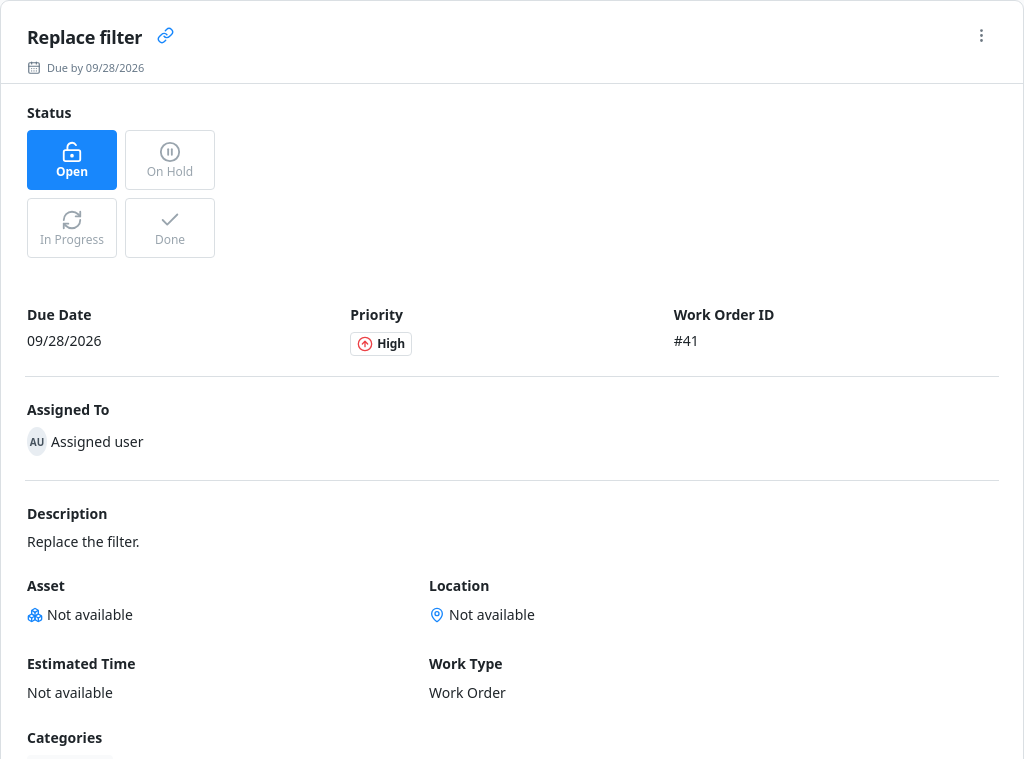
Test: WorkOrderDetail authorization › opens the PDF export dialog from the detail actions menu
This screenshot has width=1024, height=759.
Click the button named "More work order actions" at (982, 38), box [966, 22, 997, 53]
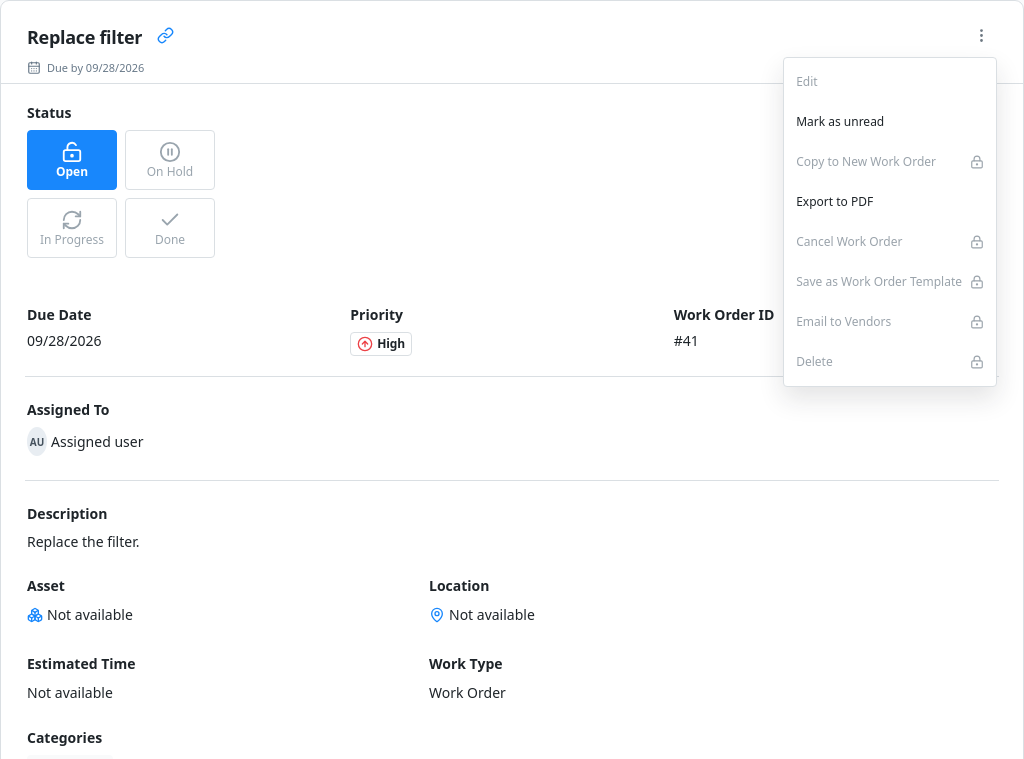
Result: the menu item "Export to PDF" is enabled
Click the menu item "Export to PDF" at (890, 202), box [784, 182, 996, 222]
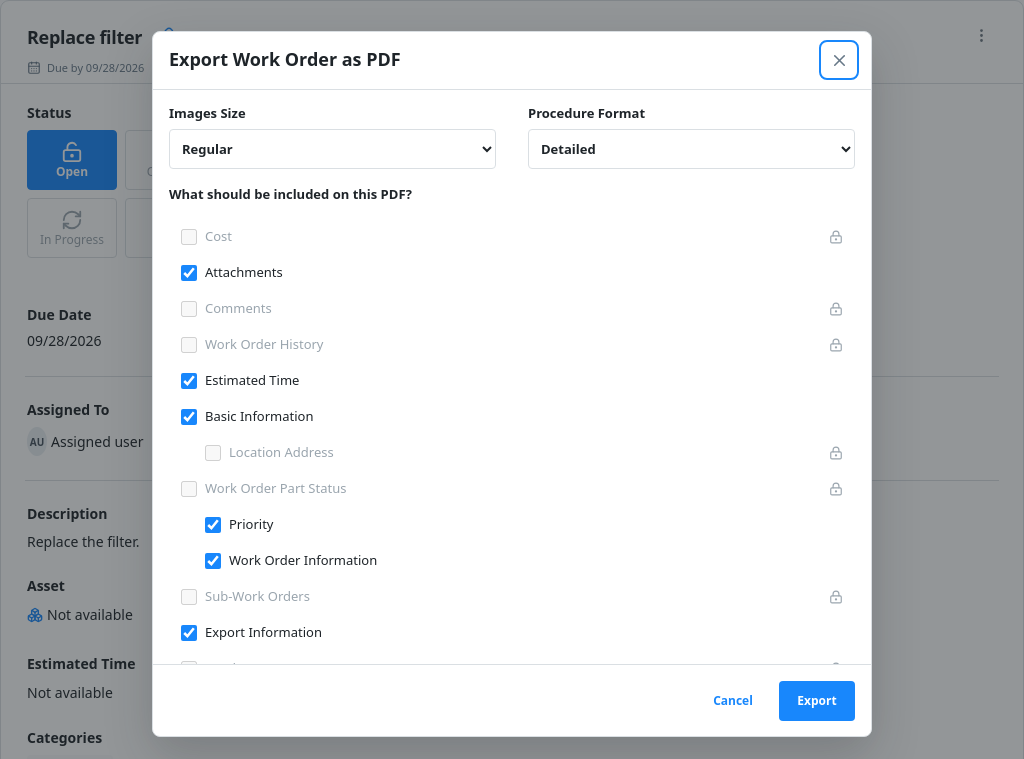
Result: the dialog "Export Work Order as PDF" is shown
